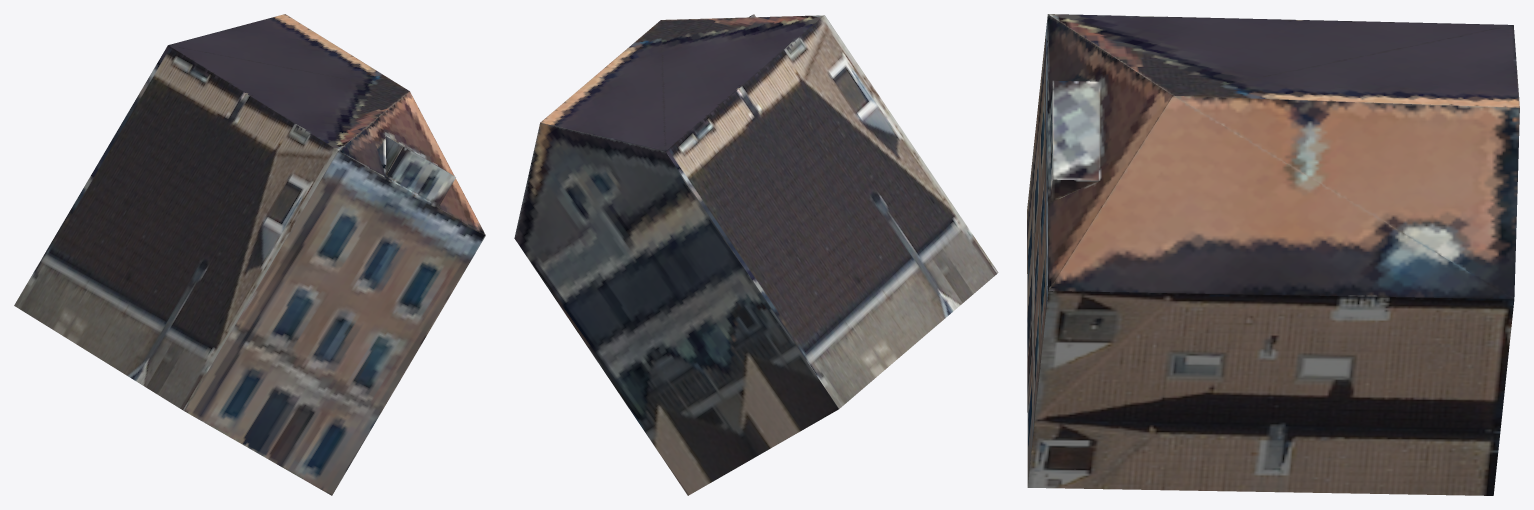
3 renders of one model, left to right at view 1: azimuth 30°, elevation 25°; view 2: azimuth 150°, elevation 25°; view 3: azimuth 270°, elevation 25°, orthographic. The views are drawn at different scales.
Parts seen in each view (by area): view 1: BAG_0599100000675868 (×4); view 2: BAG_0599100000675868 (×3); view 3: BAG_0599100000675868 (×5).
Boxes of the visible parts, box(x1,y1,x2,y2) form: BAG_0599100000675868 (×4): box(14, 14, 485, 495); BAG_0599100000675868 (×3): box(514, 15, 998, 495); BAG_0599100000675868 (×5): box(1027, 14, 1519, 495).
Bounding box in the file's own units: 13.32 × 13.94 × 12.51.
Materials: 5 (5 with a texture image).
